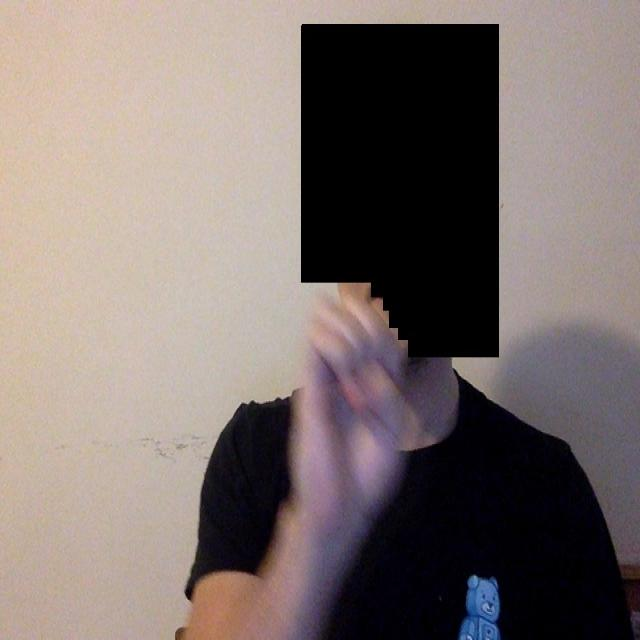E: (265, 266, 467, 620)
